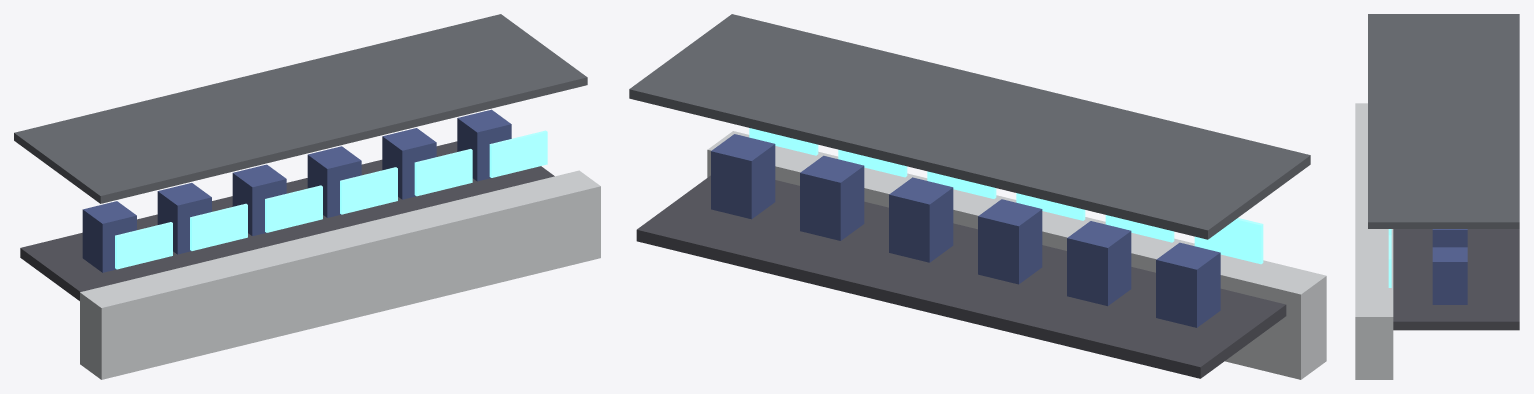
Rendered from PitWall_Command_Perch.fbx.
3 renders of one model, left to right at view 1: azimuth 30°, elevation 25°; view 2: azimuth 150°, elevation 25°; view 3: azimuth 270°, elevation 25°, orthographic. The views are drawn at different scales.
Parts seen in each view (by area): view 1: Body_PitWall_Barrier, Body_Perch_Canopy, Body_Perch_Platform, Seat_Perch_0, Seat_Perch_5, Seat_Perch_1, Seat_Perch_2, Seat_Perch_3, Seat_Perch_4, UI_LCD_PerchScreen_5, UI_LCD_PerchScreen_4, UI_LCD_PerchScreen_0 (+3 smaller); view 2: Body_Perch_Canopy, Body_Perch_Platform, Body_PitWall_Barrier, Seat_Perch_0, Seat_Perch_2, Seat_Perch_3, Seat_Perch_4, Seat_Perch_5, Seat_Perch_1, UI_LCD_PerchScreen_0, UI_LCD_PerchScreen_4, UI_LCD_PerchScreen_3 (+3 smaller); view 3: Body_Perch_Canopy, Body_Perch_Platform, Body_PitWall_Barrier, Seat_Perch_5, Seat_Perch_4, UI_LCD_PerchScreen_5.
Part boxes in pixels (x1=…): Body_PitWall_Barrier: x1=80, y1=170, x2=600, y2=379; Body_Perch_Canopy: x1=14, y1=14, x2=587, y2=203; Body_Perch_Platform: x1=20, y1=141, x2=554, y2=300; Seat_Perch_0: x1=82, y1=201, x2=136, y2=272; Seat_Perch_5: x1=457, y1=109, x2=511, y2=181; Seat_Perch_1: x1=157, y1=183, x2=211, y2=254; Seat_Perch_2: x1=232, y1=164, x2=286, y2=236; Seat_Perch_3: x1=307, y1=146, x2=361, y2=217; Seat_Perch_4: x1=382, y1=128, x2=436, y2=199; UI_LCD_PerchScreen_5: x1=489, y1=130, x2=547, y2=177; UI_LCD_PerchScreen_4: x1=414, y1=149, x2=472, y2=196; UI_LCD_PerchScreen_0: x1=115, y1=222, x2=172, y2=269; Body_Perch_Canopy: x1=629, y1=14, x2=1310, y2=239; Body_Perch_Platform: x1=636, y1=175, x2=1286, y2=378; Body_PitWall_Barrier: x1=707, y1=131, x2=1326, y2=379; Seat_Perch_0: x1=1156, y1=242, x2=1220, y2=327; Seat_Perch_2: x1=978, y1=199, x2=1042, y2=284; Seat_Perch_3: x1=889, y1=177, x2=953, y2=262; Seat_Perch_4: x1=800, y1=155, x2=864, y2=240; Seat_Perch_5: x1=711, y1=134, x2=775, y2=219; Seat_Perch_1: x1=1067, y1=221, x2=1131, y2=306; UI_LCD_PerchScreen_0: x1=1194, y1=218, x2=1263, y2=264; UI_LCD_PerchScreen_4: x1=838, y1=149, x2=907, y2=177; UI_LCD_PerchScreen_3: x1=927, y1=171, x2=996, y2=198; Body_Perch_Canopy: x1=1368, y1=14, x2=1519, y2=228; Body_Perch_Platform: x1=1393, y1=229, x2=1519, y2=330; Body_PitWall_Barrier: x1=1355, y1=103, x2=1393, y2=379; Seat_Perch_5: x1=1432, y1=247, x2=1467, y2=304; Seat_Perch_4: x1=1432, y1=229, x2=1467, y2=247; UI_LCD_PerchScreen_5: x1=1388, y1=235, x2=1391, y2=287.
Size of the model in its own units: 8 by 2.71 by 2.6.
